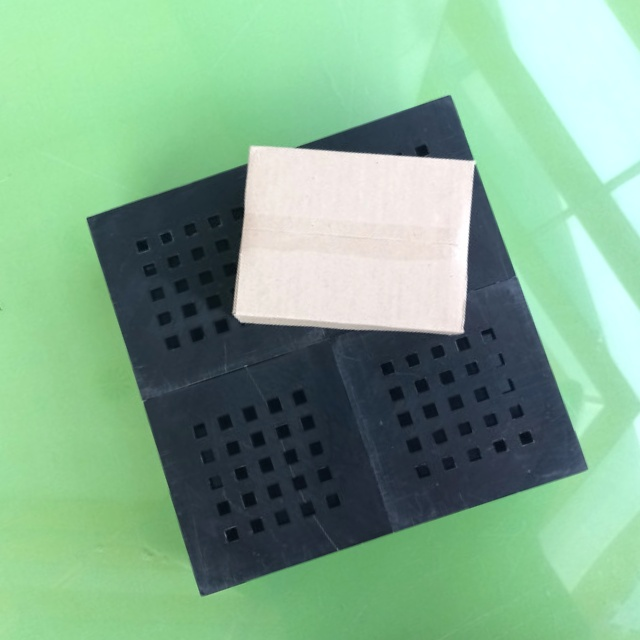box: (229, 128, 481, 344)
pallet: (76, 79, 602, 607)
